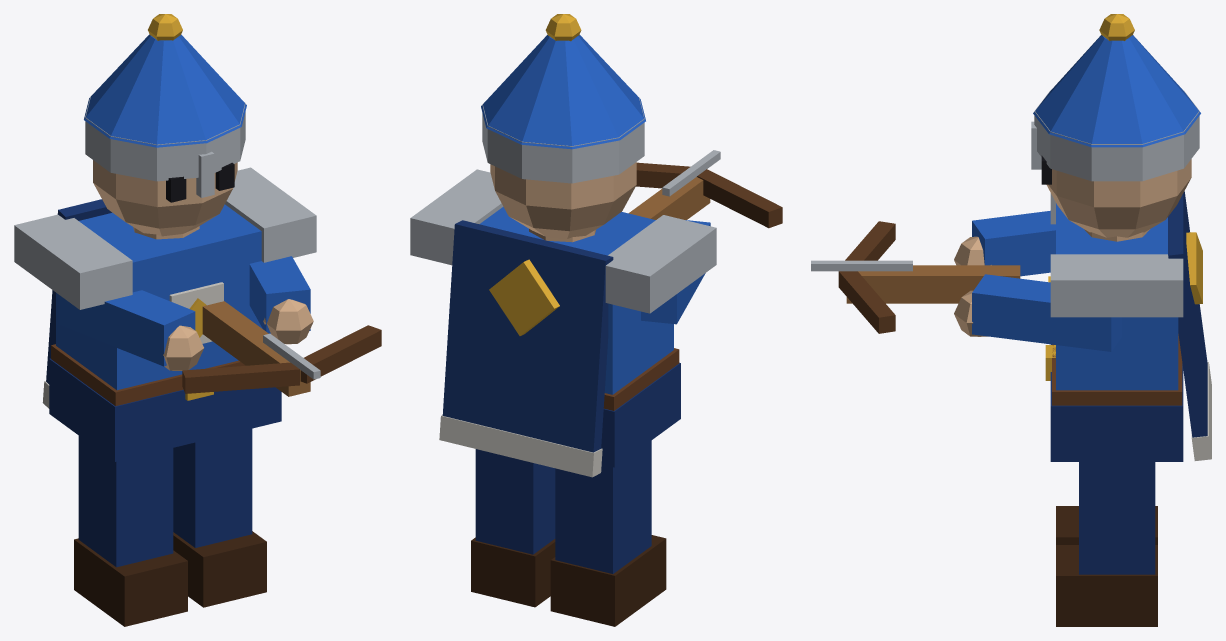
The model's file is u_crossbow.fbx.
3 renders of one model, left to right at view 1: azimuth 30°, elevation 25°; view 2: azimuth 150°, elevation 25°; view 3: azimuth 270°, elevation 25°, orthographic.
Visible parts, largest first — view 1: u_crossbow_Body, u_crossbow_LegR, u_crossbow_LegL; view 2: u_crossbow_Body, u_crossbow_LegR, u_crossbow_LegL; view 3: u_crossbow_Body, u_crossbow_LegL, u_crossbow_LegR.
Boxes of the visible parts, x1,y1,x2,y2 form: u_crossbow_Body: (14, 14, 381, 461); u_crossbow_LegR: (74, 436, 187, 626); u_crossbow_LegL: (173, 428, 266, 607); u_crossbow_Body: (410, 14, 782, 477); u_crossbow_LegR: (550, 440, 666, 626); u_crossbow_LegL: (471, 449, 555, 607); u_crossbow_Body: (811, 14, 1211, 461); u_crossbow_LegL: (1056, 462, 1157, 626); u_crossbow_LegR: (1056, 506, 1157, 544).
Bounding box in the file's own units: 0.54 × 1.25 × 0.7859.
